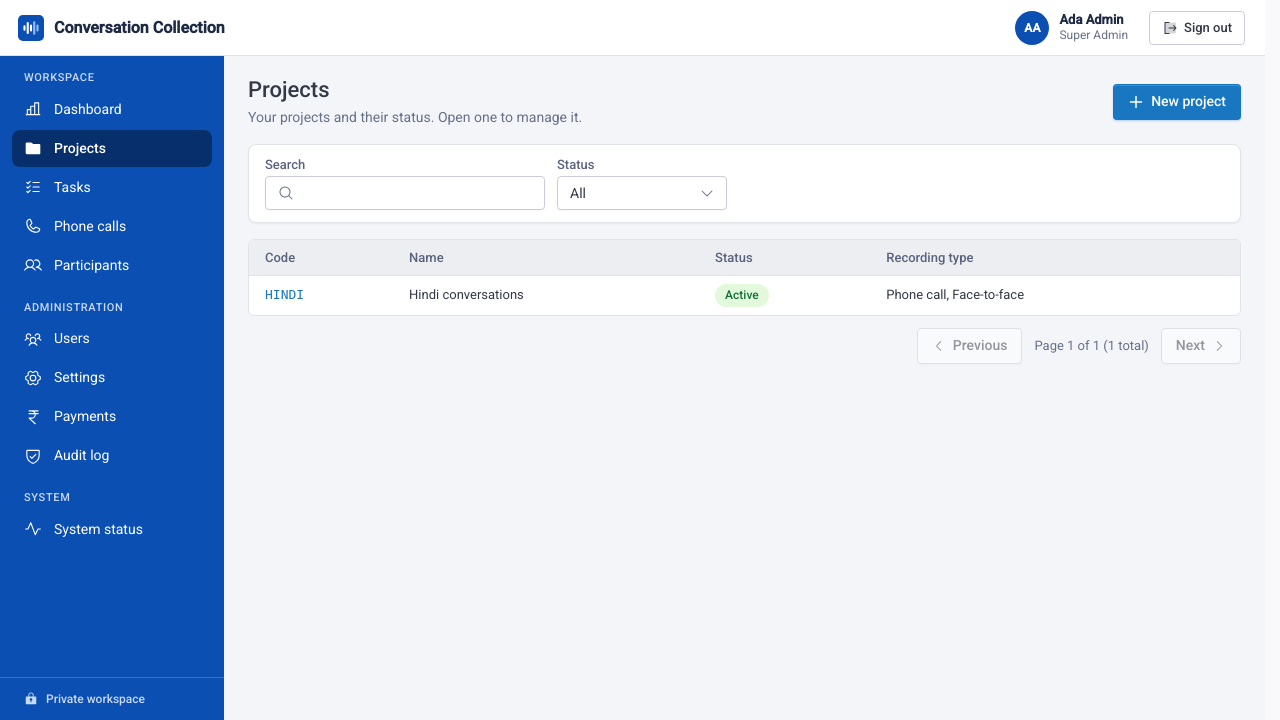
Test case: account and sign-out › opens the account page from the user's name and signs out to the sign-in page
Click the link "AA Ada Admin Super Admin".
click(1076, 28)  # box top-left (1010, 6), bottom-right (1141, 50)
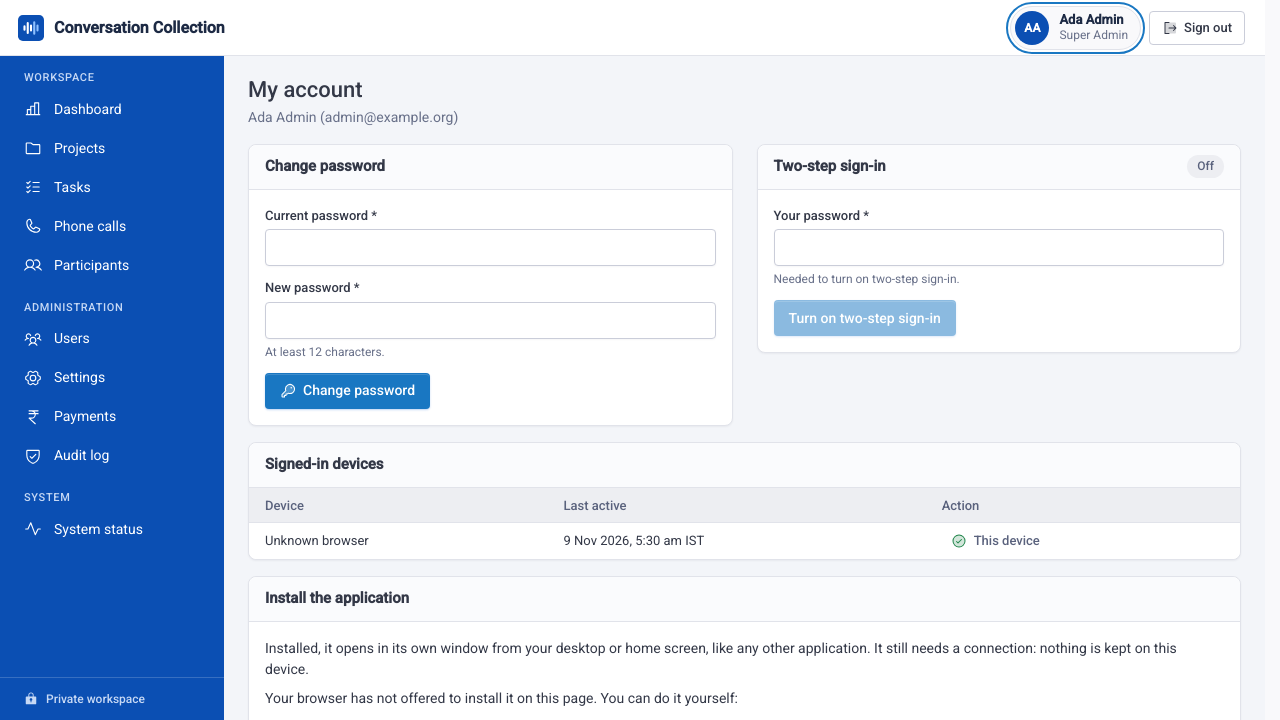
Result: the heading "My account" is shown at top-left (248, 77), bottom-right (363, 102)
Click the button "Sign out".
click(1197, 28)  # box top-left (1149, 10), bottom-right (1245, 44)
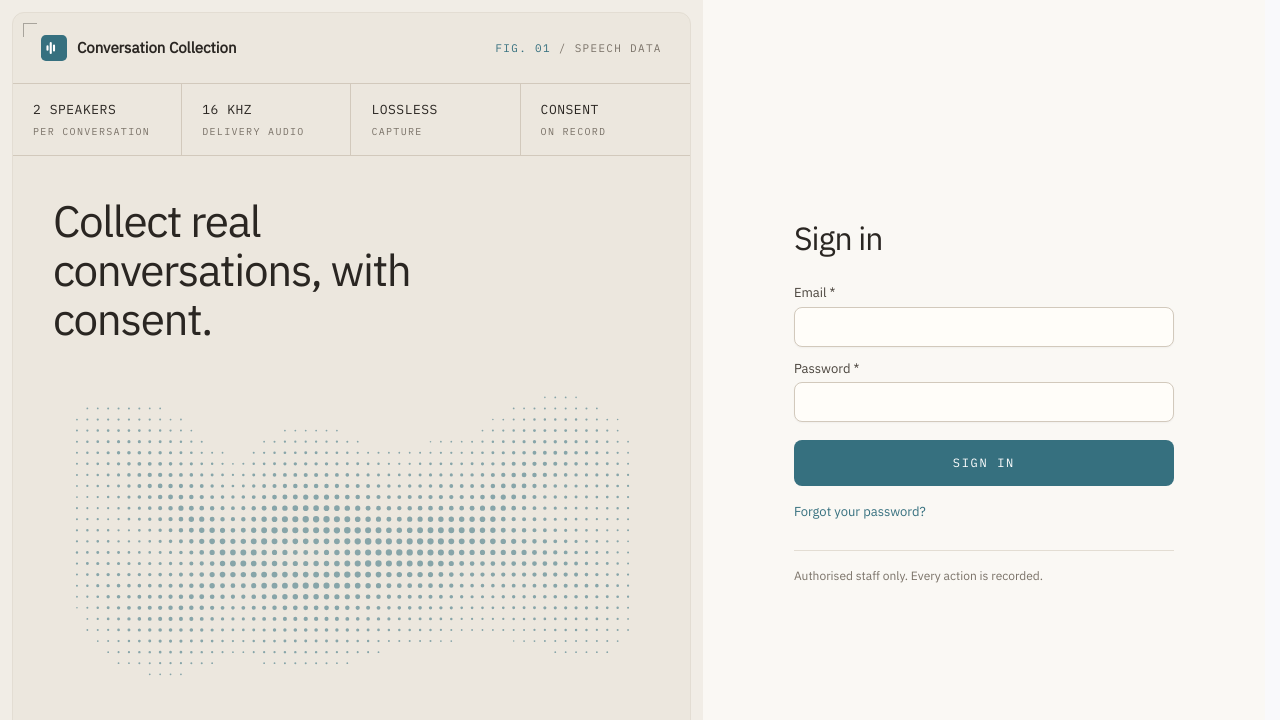
Result: the heading "Sign in" is shown at top-left (794, 217), bottom-right (883, 259)
